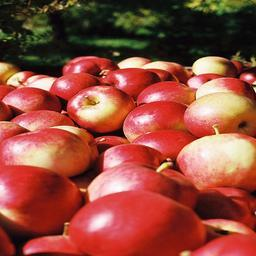apple: (68, 190, 206, 256), (1, 164, 82, 234), (84, 160, 201, 208), (176, 133, 256, 191), (1, 129, 91, 176), (182, 92, 256, 137), (66, 85, 136, 130), (123, 101, 188, 139)
